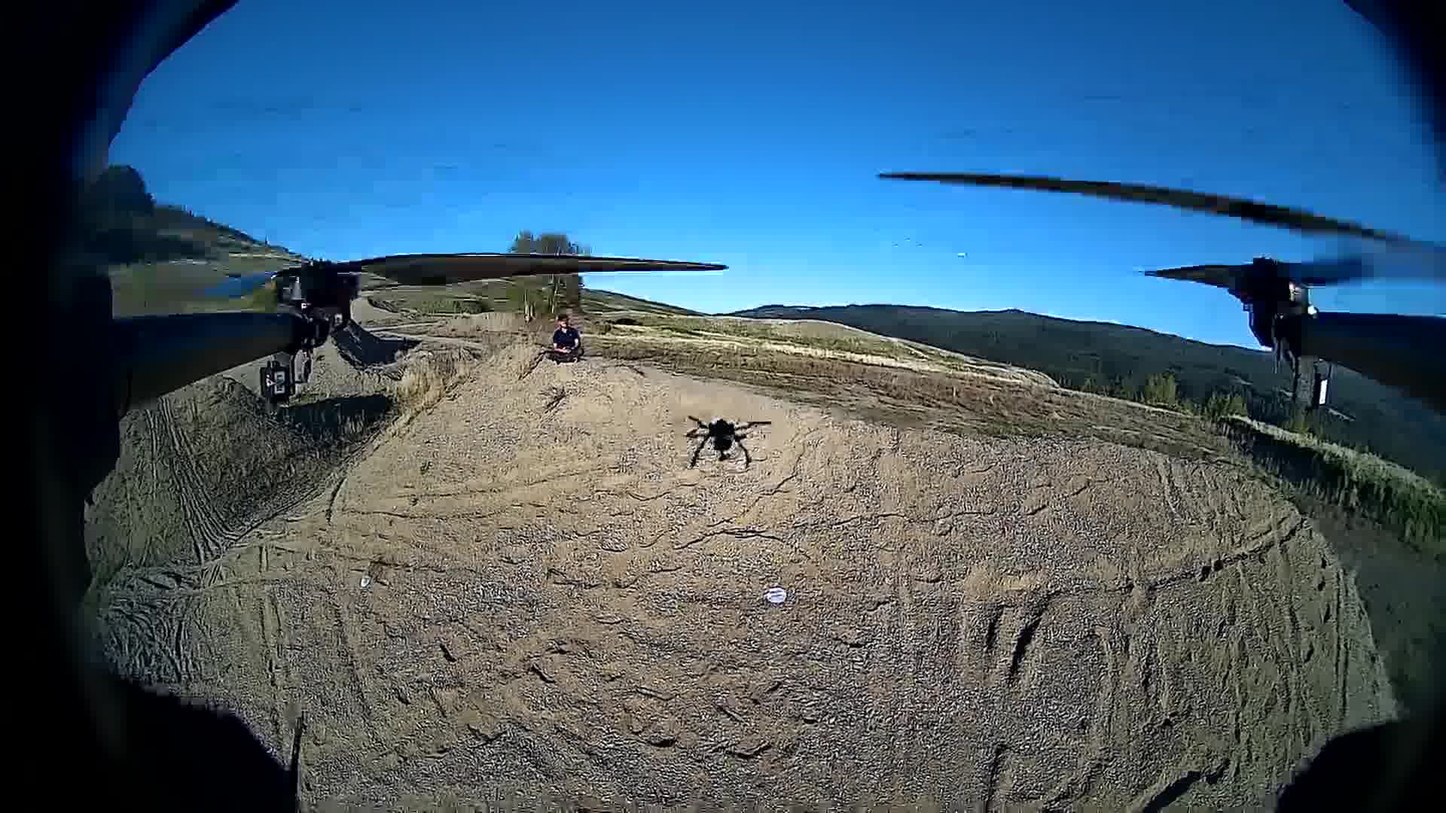Target: (767, 587, 786, 605)
